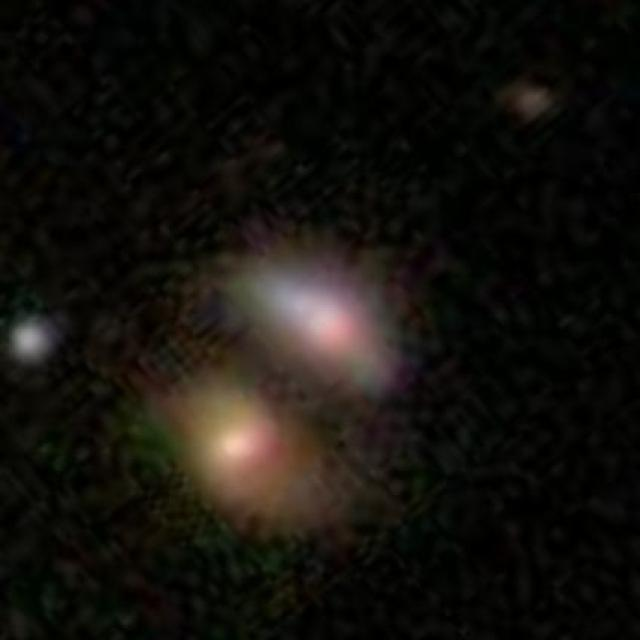galaxy: (126, 337, 393, 561), (194, 235, 417, 419), (1, 315, 66, 369), (506, 78, 562, 125)
